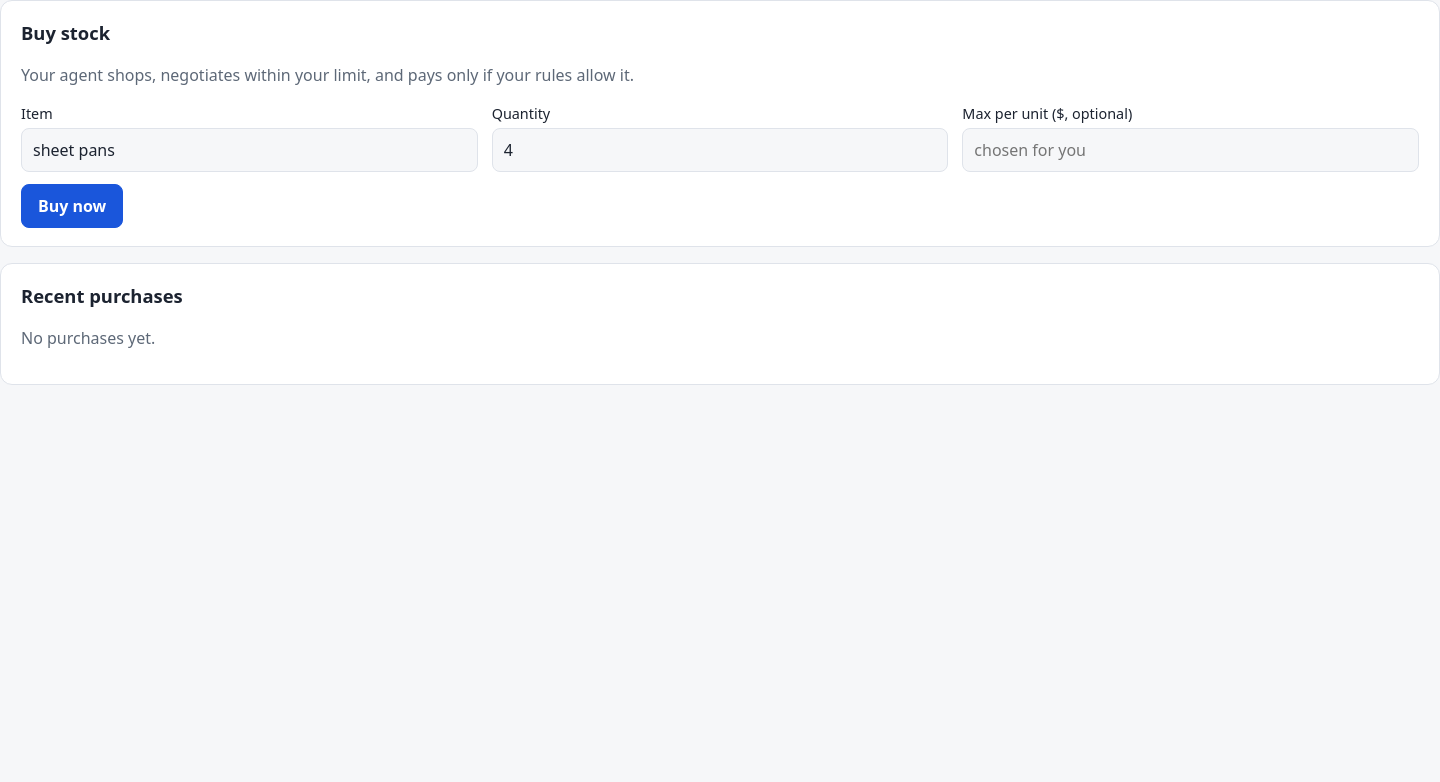
Test: PurchaseScreen › lets the owner approve a held order, then shows it as paid
Click the button "Buy now".
click(72, 206)  # box [21, 184, 123, 228]
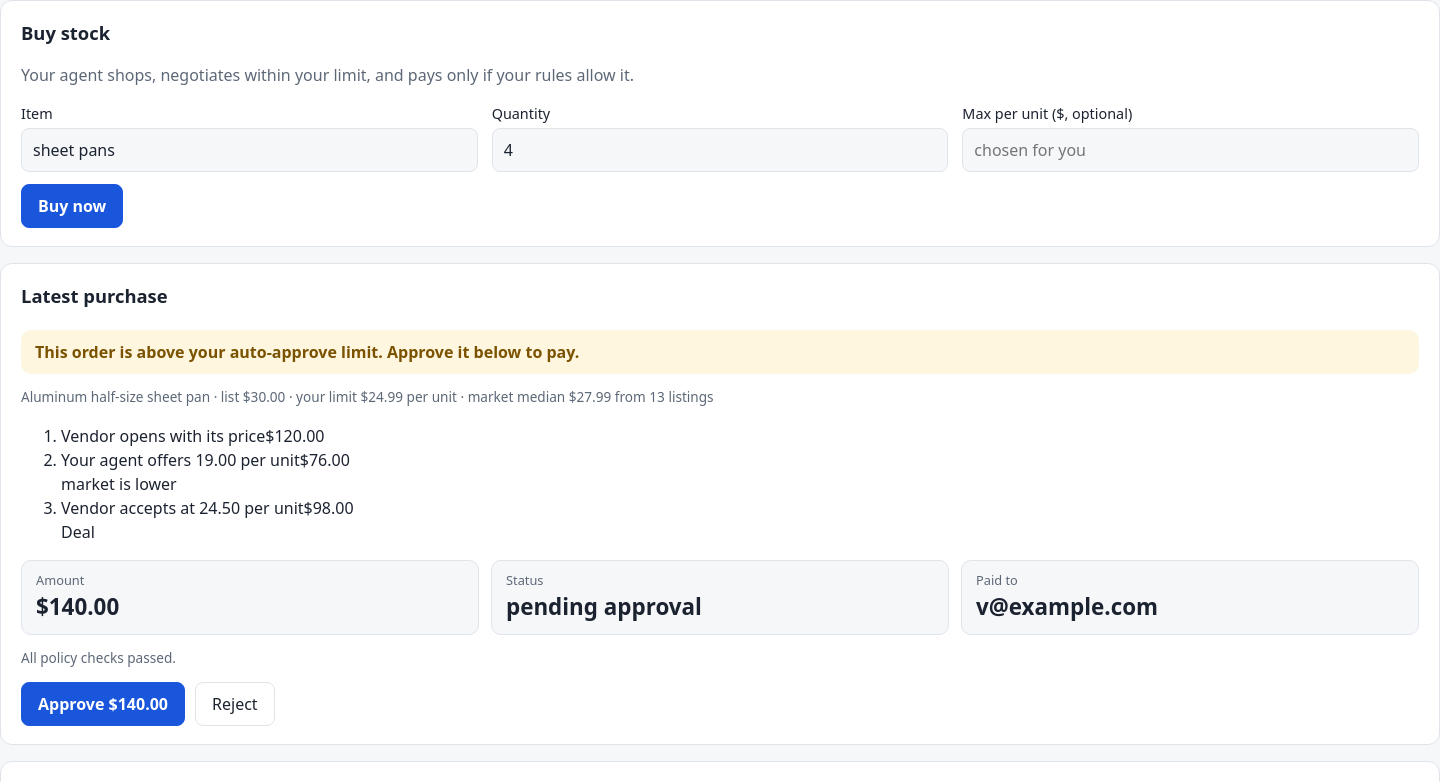
Click the button "Approve $140.00".
click(103, 704)  # box [21, 682, 185, 726]
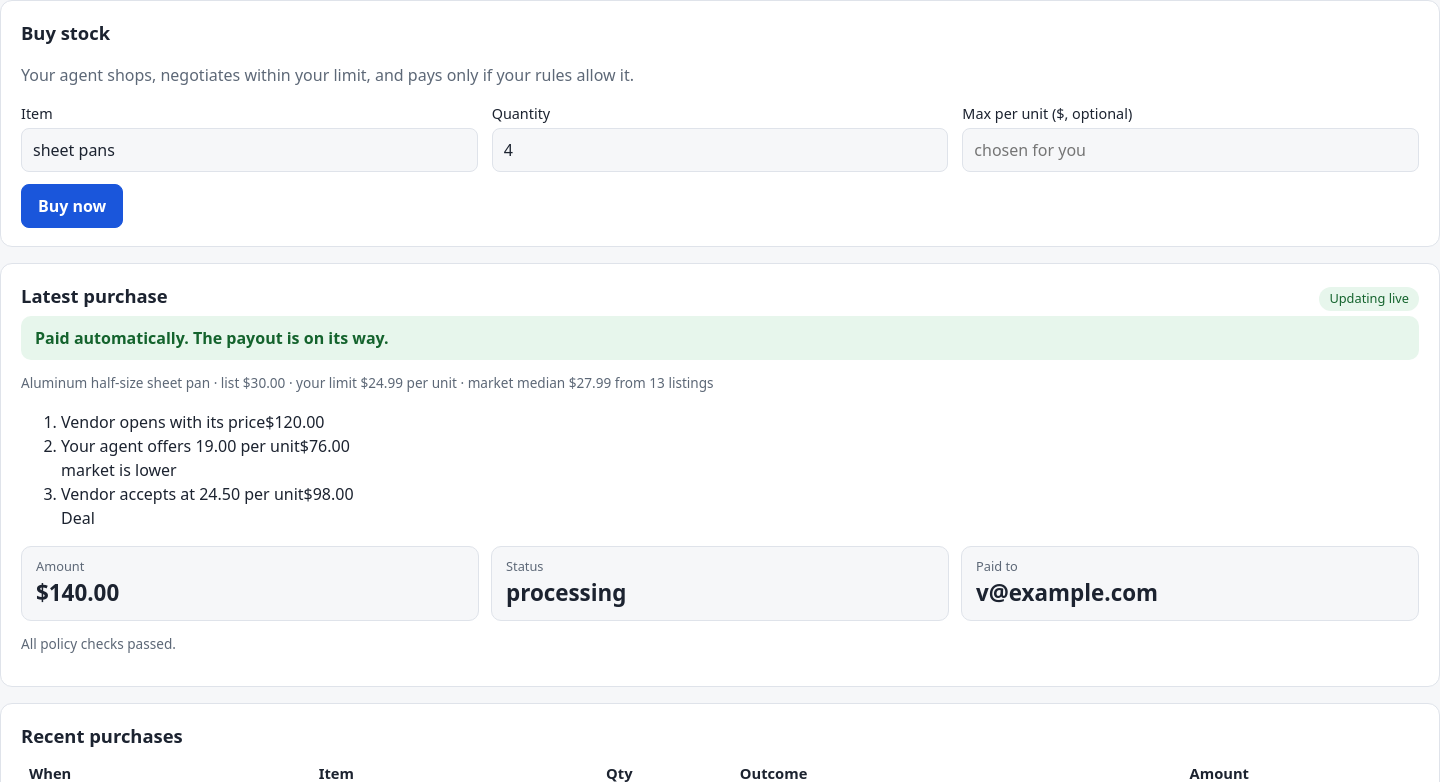
Check: the text "Paid automatically. The payout is on its way." is shown, box [35, 327, 389, 349]
Check: the text "approve" is gone
